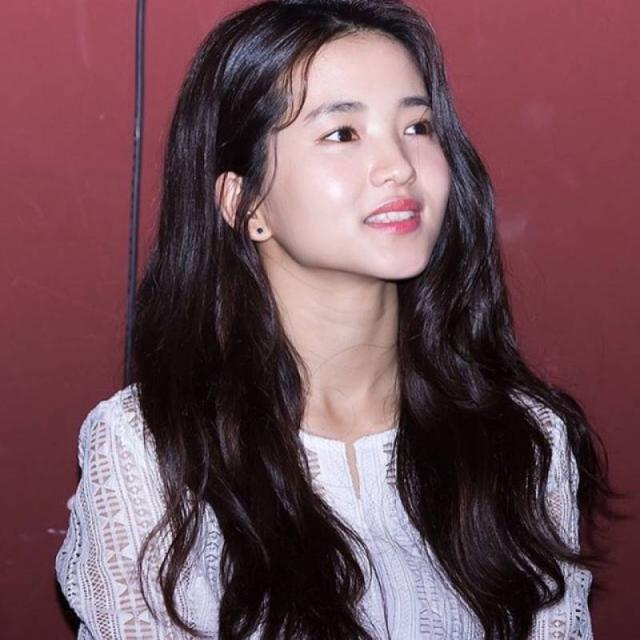face: (253, 29, 461, 280)
